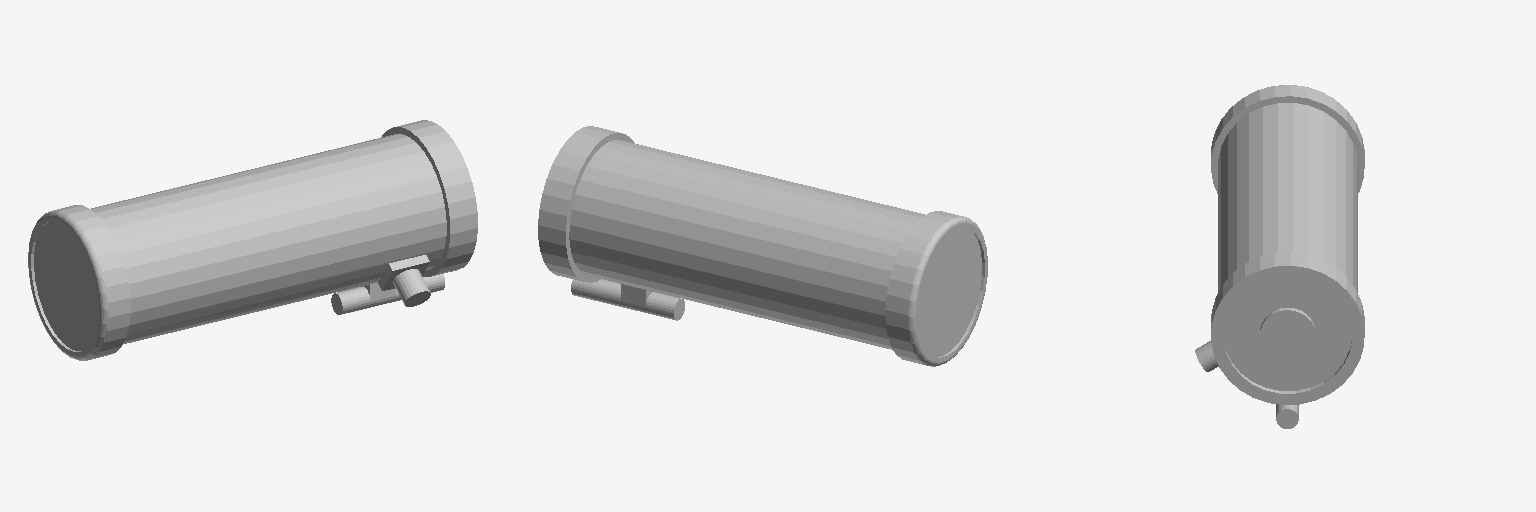
File: ReflectorAltAz.obj
The picture shows the model from 3 angles: view 1: azimuth 30°, elevation 25°; view 2: azimuth 150°, elevation 25°; view 3: azimuth 270°, elevation 25°; orthographic projection.
Visible parts, largest first — view 1: Body15; view 2: Body15; view 3: Body15.
Part boxes in pixels (x1,y1,x2,y2): Body15: (28, 120, 477, 360); Body15: (538, 126, 987, 366); Body15: (1195, 85, 1364, 428).
Bounding box in the file's own units: 774 × 322 × 303.